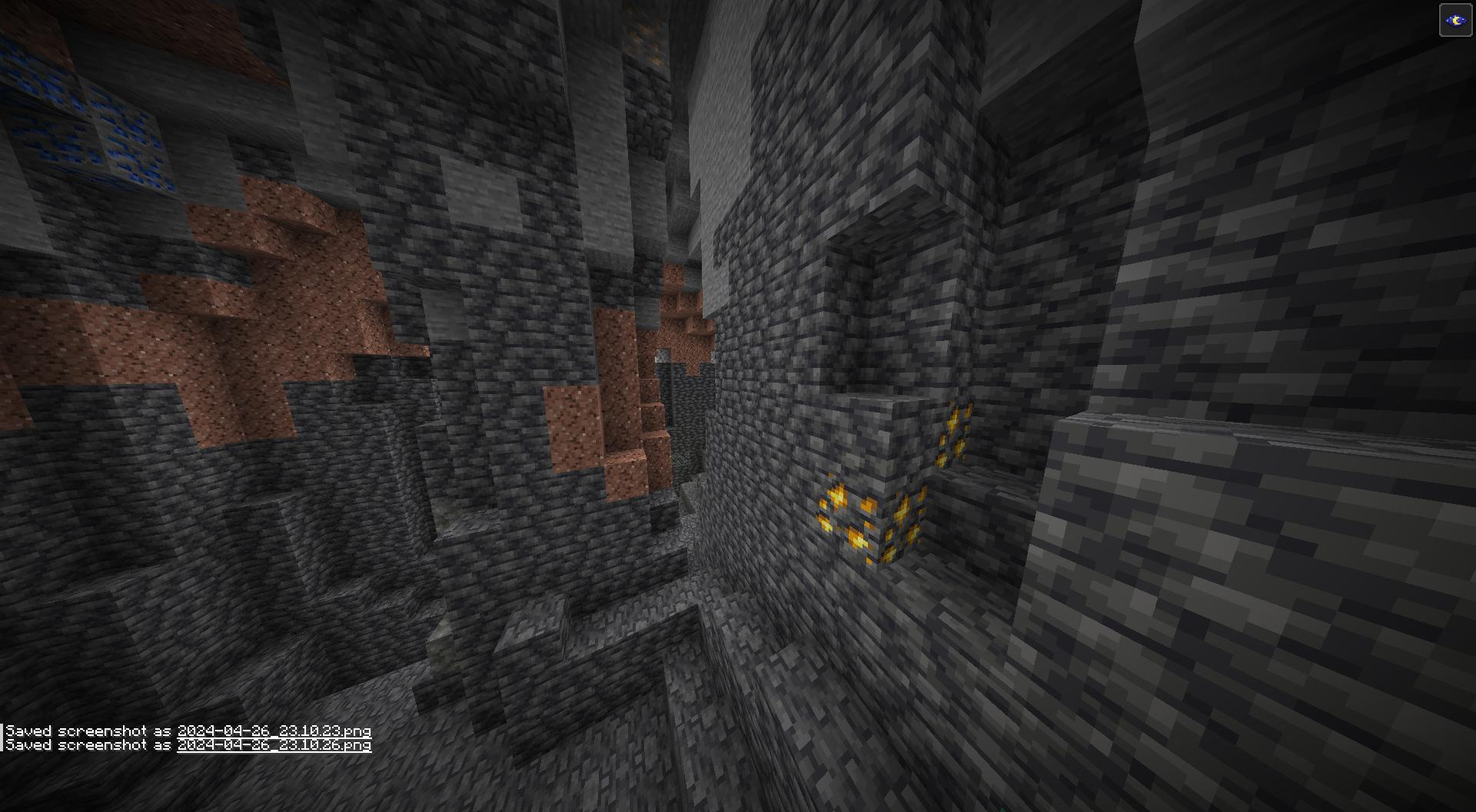gold ore: (813, 472, 880, 560), (881, 483, 930, 565), (939, 392, 977, 468)
